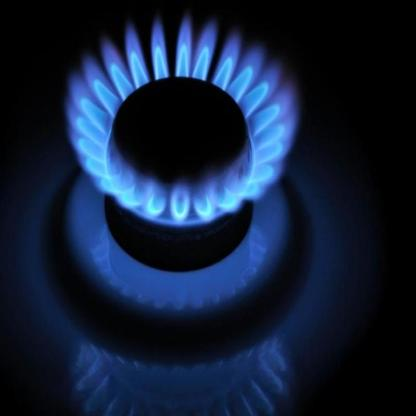fire: (65, 8, 300, 238)
